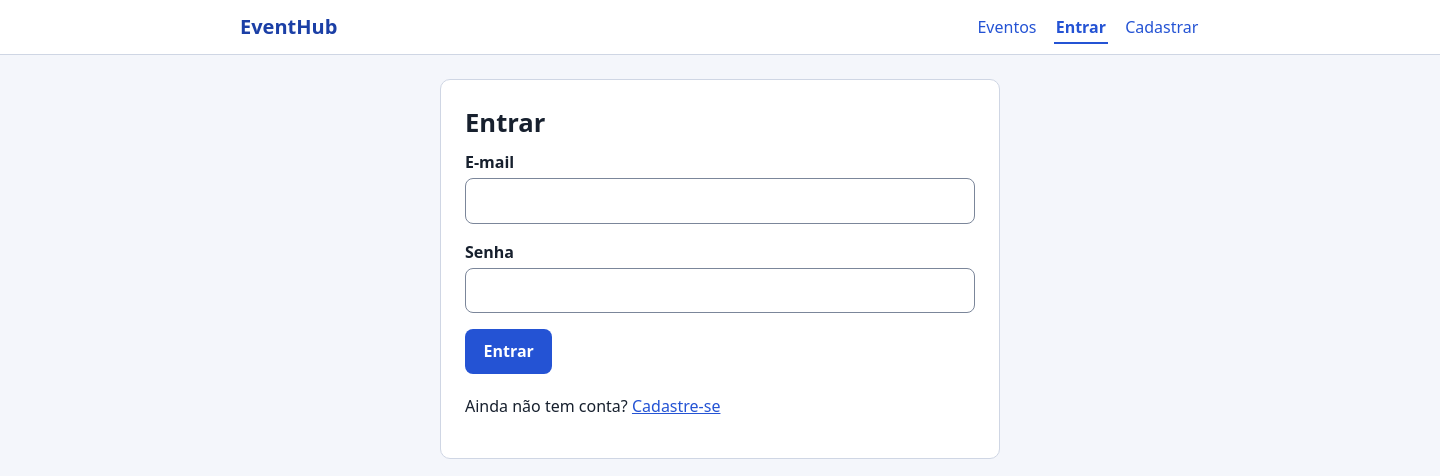
Scenario: Meus certificados › se o nome do evento não carregar, mostra o certificado mesmo assim
Type "maria@example.com" into the field labelled "E-mail". click: (720, 201)
box: [465, 178, 975, 224]
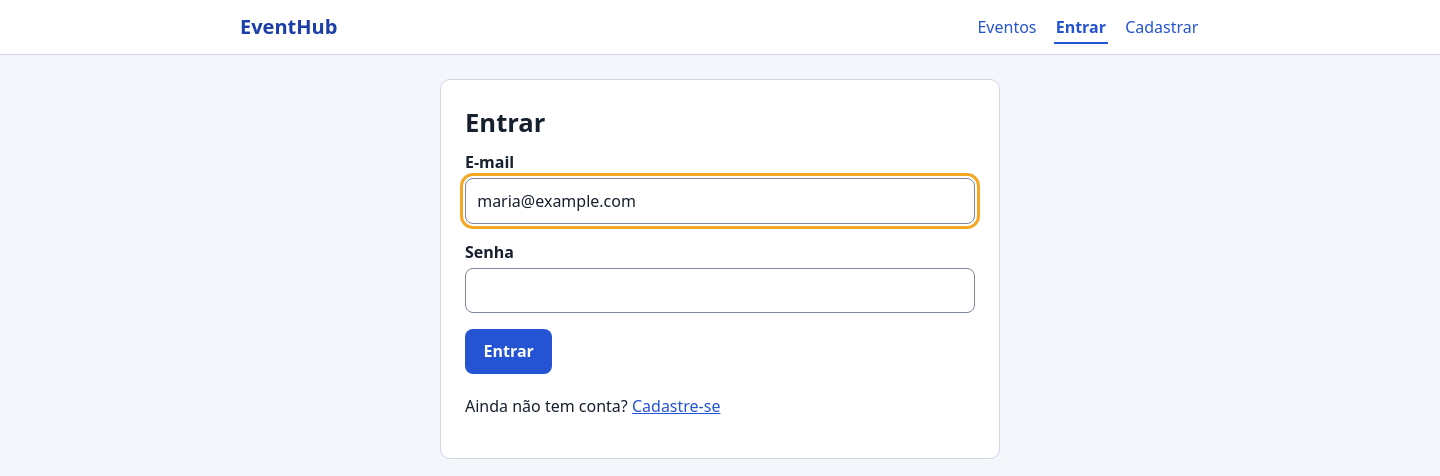
Type "senha-forte-123" into the password field labelled "Senha". click: (720, 290)
box: [465, 268, 975, 313]
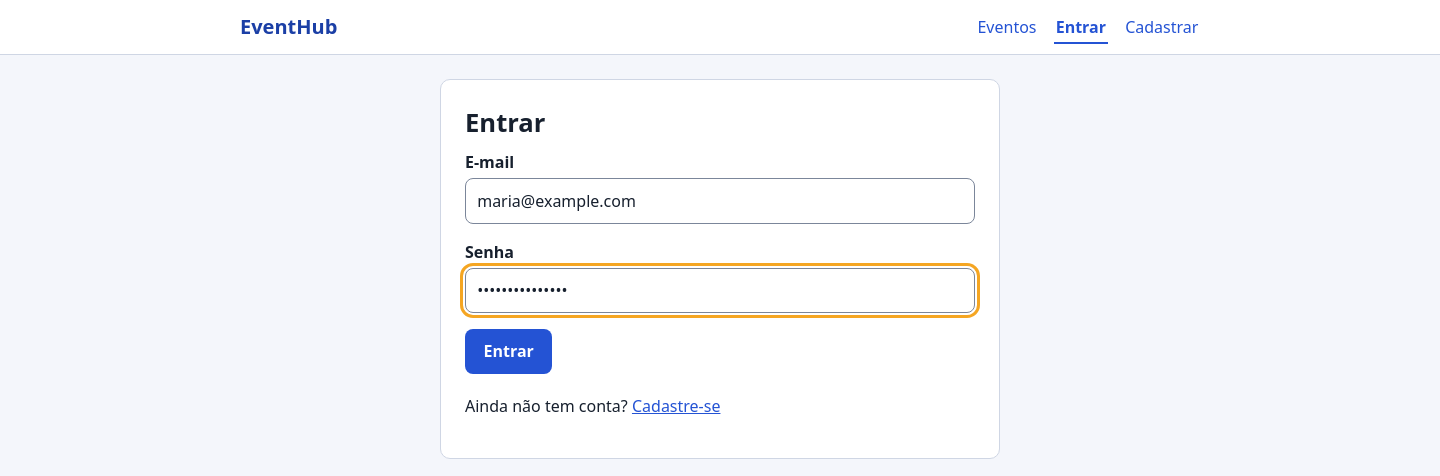
Click the button "Entrar". click: (509, 351)
box: [465, 329, 552, 374]
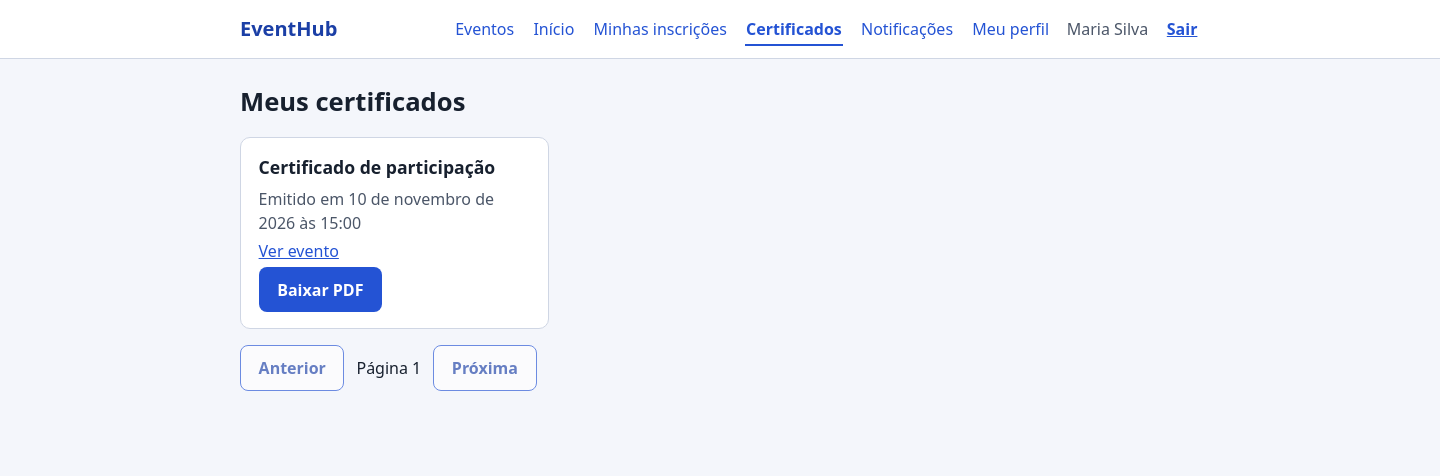
Now the heading "Certificado de participação" is shown, box [259, 154, 531, 181]
Now the button "Baixar PDF" is shown, box [259, 267, 382, 312]
